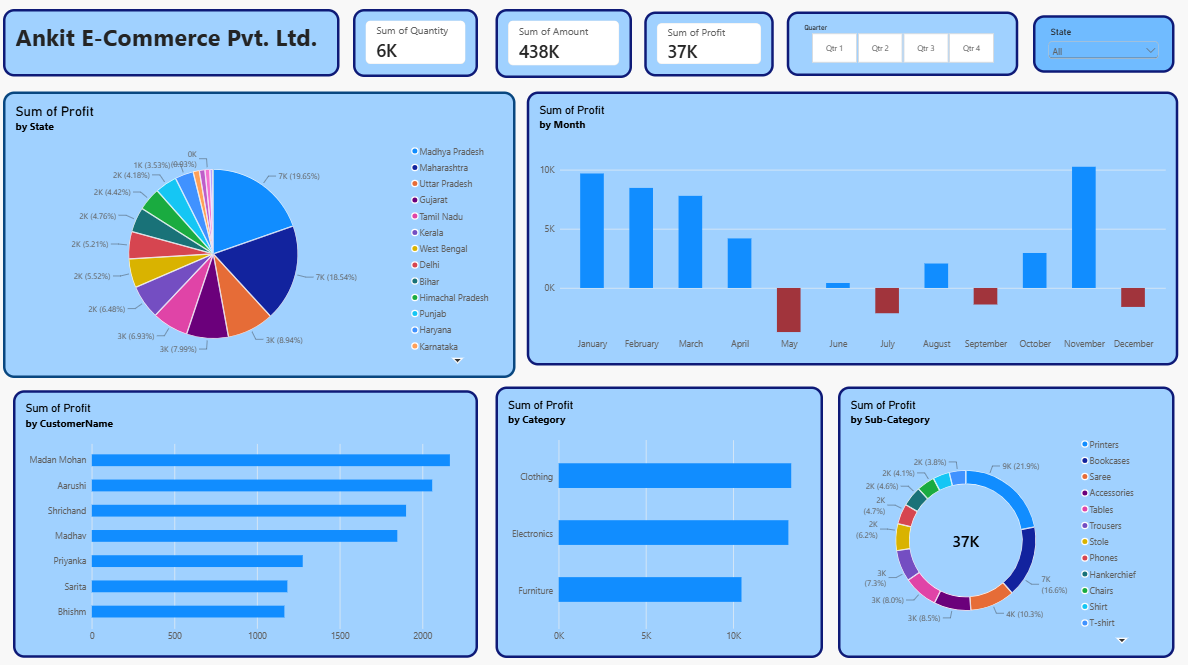

The dashboard page shown, as its layout file describes it:
{"tool":"powerbi","page":{"name":"Page 1","canvas":[1920,1080],"ordinal":0},"visuals":[{"type":"columnChart","fields":{"Category":["Orders.Order Date.Variation.Date Hierarchy.Month"],"Y":["Sum(Details.Profit)"]},"box":[846,148,1042,438],"z":0},{"type":"pieChart","fields":{"Category":["Orders.State"],"Y":["Sum(Details.Profit)"]},"box":[8,148,820,458],"z":2000},{"type":"donutChart","fields":{"Category":["Details.Sub-Category"],"Y":["Sum(Details.Profit)"]},"box":[1344,620,538,434],"z":3000},{"type":"clusteredBarChart","fields":{"Category":["Orders.CustomerName"],"Y":["Sum(Details.Profit)"]},"box":[24,626,744,428],"z":4000},{"type":"cardVisual","fields":{"Data":["Sum(Details.Quantity)"]},"box":[568.3,16.7,200,108.6],"z":5000},{"type":"cardVisual","fields":{"Data":["Sum(Details.Profit)"]},"box":[1033.3,20,207.1,104.3],"z":6000},{"type":"slicer","fields":{"Values":["Orders.Order Date.Variation.Date Hierarchy.Quarter"]},"box":[1261.7,20,370,103.3],"z":7000},{"type":"slicer","fields":{"Values":["Orders.State"]},"box":[1655,25,226,92],"z":8000},{"type":"cardVisual","fields":{"Data":["Sum(Details.Amount)"]},"box":[795,15,218.3,110],"z":9000},{"type":"textbox","box":[8.3,15,538.3,108.3],"z":10000},{"type":"clusteredBarChart","fields":{"Category":["Details.Category"],"Y":["Sum(Details.Profit)"]},"box":[796,620,524,434],"z":11000}]}

Visuals, with their boxes in screenshot pixels (x1, y1, x2, y2), scaled from the page's 1920x1080 canvas onto the 1188x665 screenshot:
columnChart - Orders.Order Date.Variation.Date Hierarchy.Month x Sum(Details.Profit): x1=523 y1=91 x2=1168 y2=361
pieChart - Orders.State x Sum(Details.Profit): x1=5 y1=91 x2=512 y2=373
donutChart - Details.Sub-Category x Sum(Details.Profit): x1=832 y1=382 x2=1164 y2=649
clusteredBarChart - Orders.CustomerName x Sum(Details.Profit): x1=15 y1=385 x2=475 y2=649
cardVisual - Sum(Details.Quantity): x1=352 y1=10 x2=475 y2=77
cardVisual - Sum(Details.Profit): x1=639 y1=12 x2=767 y2=77
slicer - Orders.Order Date.Variation.Date Hierarchy.Quarter: x1=781 y1=12 x2=1010 y2=76
slicer - Orders.State: x1=1024 y1=15 x2=1164 y2=72
cardVisual - Sum(Details.Amount): x1=492 y1=9 x2=627 y2=77
textbox: x1=5 y1=9 x2=338 y2=76
clusteredBarChart - Details.Category x Sum(Details.Profit): x1=493 y1=382 x2=817 y2=649
